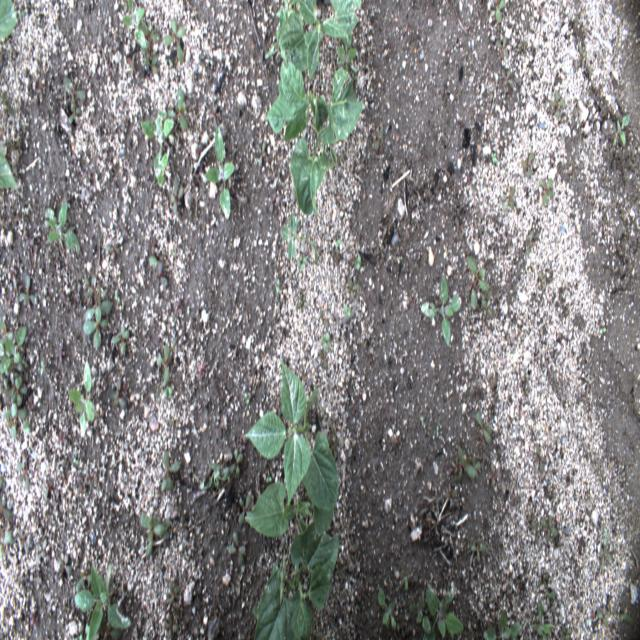crop: (262, 56, 364, 218), (245, 356, 340, 516), (247, 530, 350, 640), (265, 0, 363, 78), (234, 476, 344, 541), (0, 0, 28, 53), (0, 140, 19, 190)
weed: (72, 563, 131, 639), (204, 124, 236, 217), (121, 0, 160, 74), (421, 274, 462, 344), (421, 578, 465, 640), (0, 312, 30, 383), (0, 372, 32, 438), (67, 366, 98, 433), (280, 211, 318, 265), (84, 281, 112, 354), (44, 201, 80, 254), (139, 510, 176, 560), (155, 336, 177, 399), (466, 253, 489, 311), (139, 107, 176, 143), (482, 608, 523, 639), (63, 71, 84, 125), (163, 15, 186, 64), (455, 447, 484, 485), (590, 595, 614, 639), (376, 583, 398, 631), (530, 513, 560, 548), (407, 581, 427, 631), (199, 459, 230, 491), (0, 496, 15, 562), (599, 526, 618, 577), (531, 598, 554, 639), (160, 450, 181, 493), (612, 107, 631, 150), (152, 150, 170, 188), (175, 85, 189, 132), (226, 448, 244, 482), (469, 534, 488, 566), (475, 409, 491, 446), (320, 309, 333, 354), (550, 88, 566, 122), (538, 175, 554, 208), (336, 41, 356, 67), (619, 603, 638, 629), (230, 534, 245, 566), (398, 566, 416, 592), (58, 550, 73, 580), (520, 150, 535, 180), (114, 328, 130, 356), (112, 380, 128, 407), (490, 0, 507, 25), (21, 278, 36, 306), (169, 181, 184, 209), (168, 582, 181, 614), (345, 276, 361, 300), (168, 604, 180, 636), (501, 185, 515, 212), (0, 91, 14, 118), (480, 292, 493, 320), (17, 457, 29, 485), (502, 68, 516, 90), (535, 443, 544, 474), (495, 35, 508, 56), (296, 252, 308, 274), (374, 126, 384, 152), (559, 623, 574, 639), (258, 139, 266, 167), (353, 252, 363, 274), (537, 572, 549, 590), (85, 275, 94, 299), (579, 44, 588, 67), (545, 588, 557, 605), (38, 540, 46, 565), (538, 270, 546, 292), (73, 455, 82, 474), (343, 302, 352, 320), (527, 229, 533, 256), (148, 252, 159, 266), (107, 245, 120, 256), (598, 324, 608, 337), (296, 296, 306, 308), (275, 277, 281, 297), (333, 236, 343, 248), (491, 150, 498, 167), (244, 391, 251, 407), (419, 414, 425, 429), (0, 474, 5, 491), (435, 423, 440, 440), (128, 65, 135, 77), (40, 359, 45, 374), (168, 57, 174, 69), (367, 50, 372, 64), (523, 380, 527, 397), (547, 260, 552, 273), (45, 488, 50, 500), (114, 289, 120, 299), (26, 205, 30, 218), (398, 254, 403, 262)
